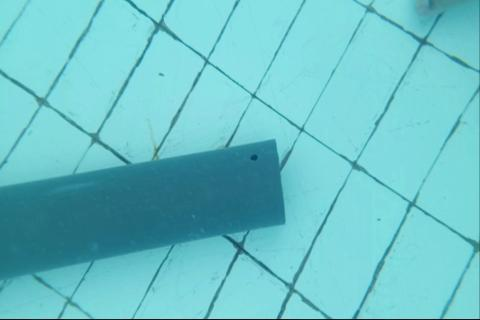kebocoran: (249, 154, 258, 162)
